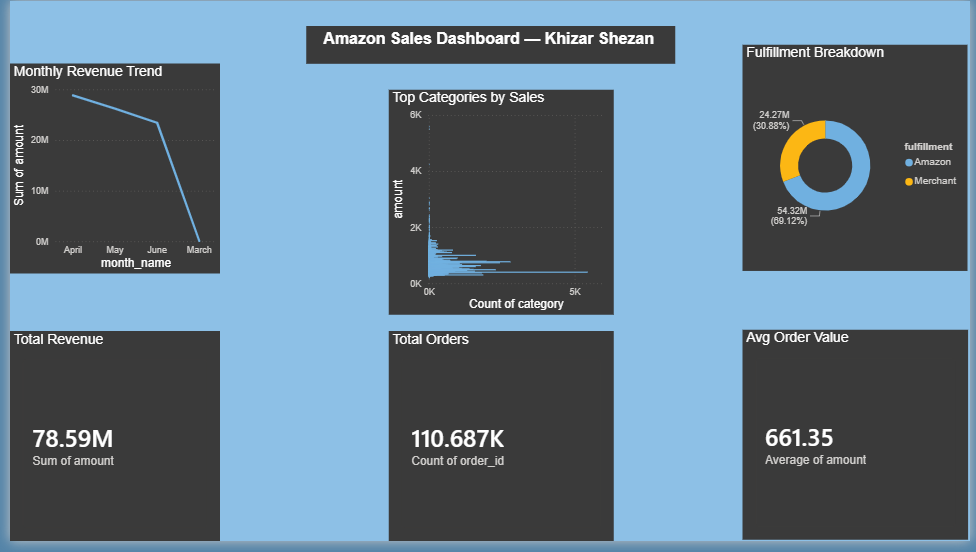

The page's visual inventory and layout, read from the dashboard file:
{"tool":"powerbi","page":{"name":"Page 1","canvas":[1280,720],"ordinal":0},"visuals":[{"type":"lineChart","title":"Monthly Revenue Trend","fields":{"Category":["khizar_portfolio amazon_sales.month_name"],"Y":["Sum(khizar_portfolio amazon_sales.amount)"]},"box":[0,83.3,280,280],"z":0},{"type":"clusteredBarChart","title":"Top Categories by Sales","fields":{"Y":["CountNonNull(khizar_portfolio amazon_sales.category)"],"Category":["khizar_portfolio amazon_sales.amount"]},"box":[505,118.3,300,300],"z":1},{"type":"donutChart","title":"Fulfillment Breakdown","fields":{"Category":["khizar_portfolio amazon_sales.fulfillment"],"Y":["Sum(khizar_portfolio amazon_sales.amount)"]},"box":[976.7,58.3,300,301.7],"z":2},{"type":"cardVisual","title":"Total Revenue","fields":{"Data":["Sum(khizar_portfolio amazon_sales.amount)"]},"box":[0,440,280,280],"z":3},{"type":"cardVisual","title":"Total Orders","fields":{"Data":["Count(khizar_portfolio amazon_sales.order_id)"]},"box":[505,440,300,280],"z":4},{"type":"cardVisual","title":"Avg Order Value","fields":{"Data":["Avg(khizar_portfolio amazon_sales.amount)"]},"box":[976.9,438.3,301,279.9],"z":5},{"type":"textbox","box":[395,33.3,491.7,50],"z":6}]}

Visuals, with their boxes in screenshot pixels (x1, y1, x2, y2), scaled from the page's 1280x720 canvas onto the 976x552 screenshot:
"Monthly Revenue Trend" lineChart: {"x1": 0, "y1": 64, "x2": 214, "y2": 279}
"Top Categories by Sales" clusteredBarChart: {"x1": 385, "y1": 91, "x2": 614, "y2": 321}
"Fulfillment Breakdown" donutChart: {"x1": 745, "y1": 45, "x2": 973, "y2": 276}
"Total Revenue" cardVisual: {"x1": 0, "y1": 337, "x2": 214, "y2": 551}
"Total Orders" cardVisual: {"x1": 385, "y1": 337, "x2": 614, "y2": 551}
"Avg Order Value" cardVisual: {"x1": 745, "y1": 336, "x2": 974, "y2": 551}
textbox: {"x1": 301, "y1": 26, "x2": 676, "y2": 64}
